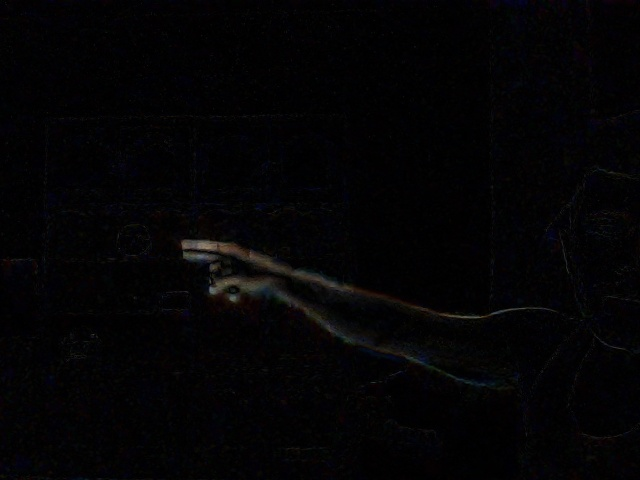hand_po: (166, 233, 281, 311)
